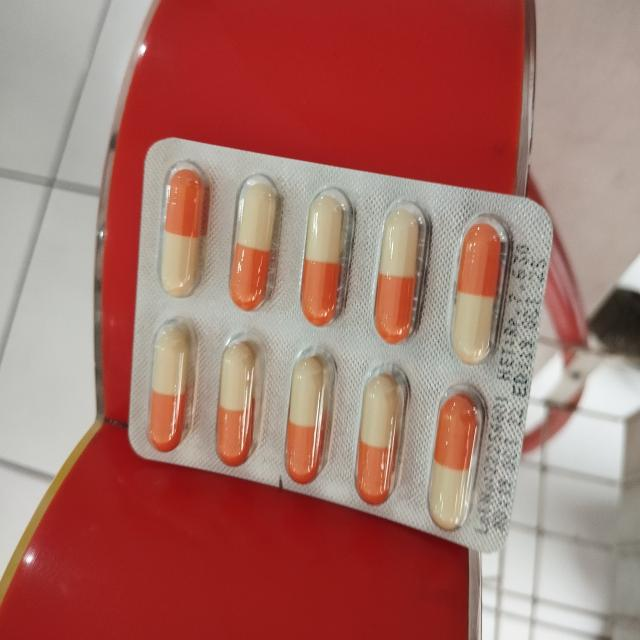B3: (126, 138, 554, 552)
